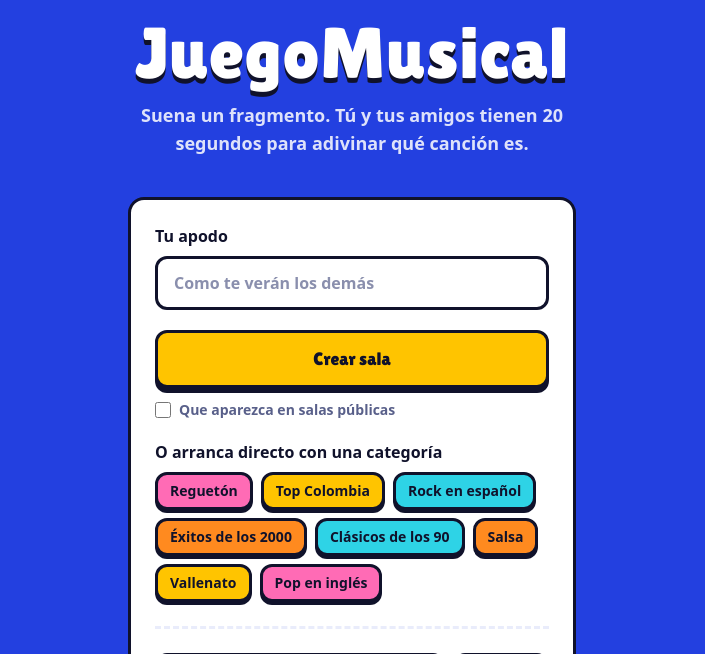
Inicio › entrar con código: valida 5 caracteres, pasa a mayúsculas y entra
Later steps or results of the test are not shown.
Type "Ana" into the field labelled "Tu apodo". click: (352, 283)
box: [155,256,549,310]
(page scrolled)
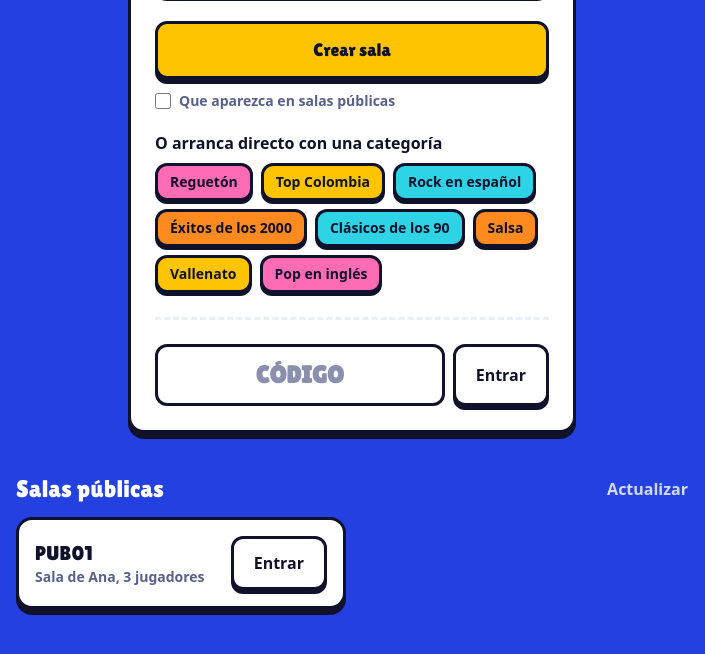
Type "ab1" into the field named "Código de sala". click: (300, 375)
box: [155,344,445,406]
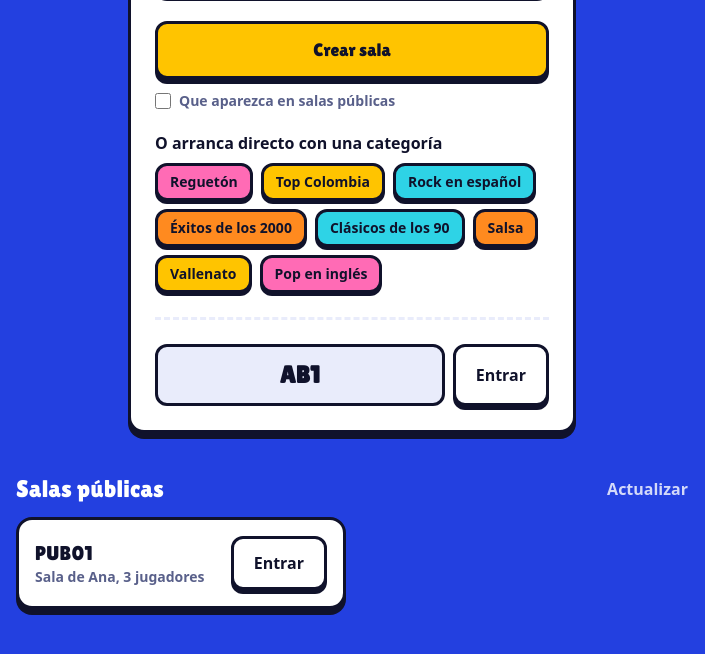
Click the button "Entrar" below "O arranca directo con una categoría". click: (501, 375)
box: [453,344,549,406]
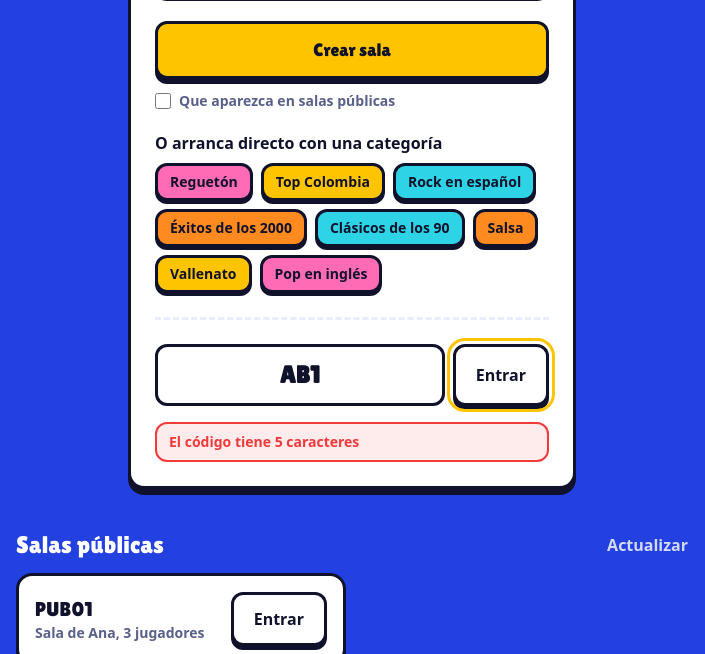
Now the message reads "El código tiene 5 caracteres", box [169,432,359,451]
Type "2c" into the field named "Código de sala". click: (300, 375)
box: [155,344,445,406]
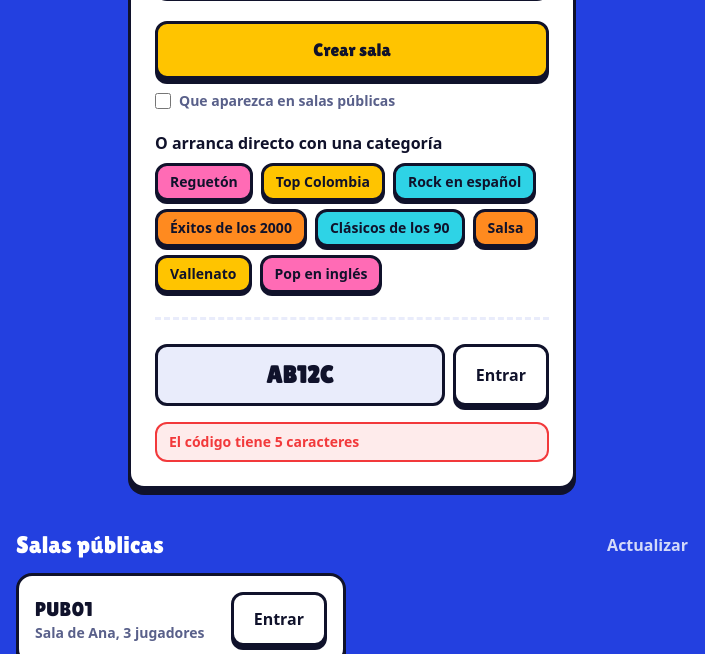
Now the field named "Código de sala" holds "AB12C", box [155,344,445,406]
